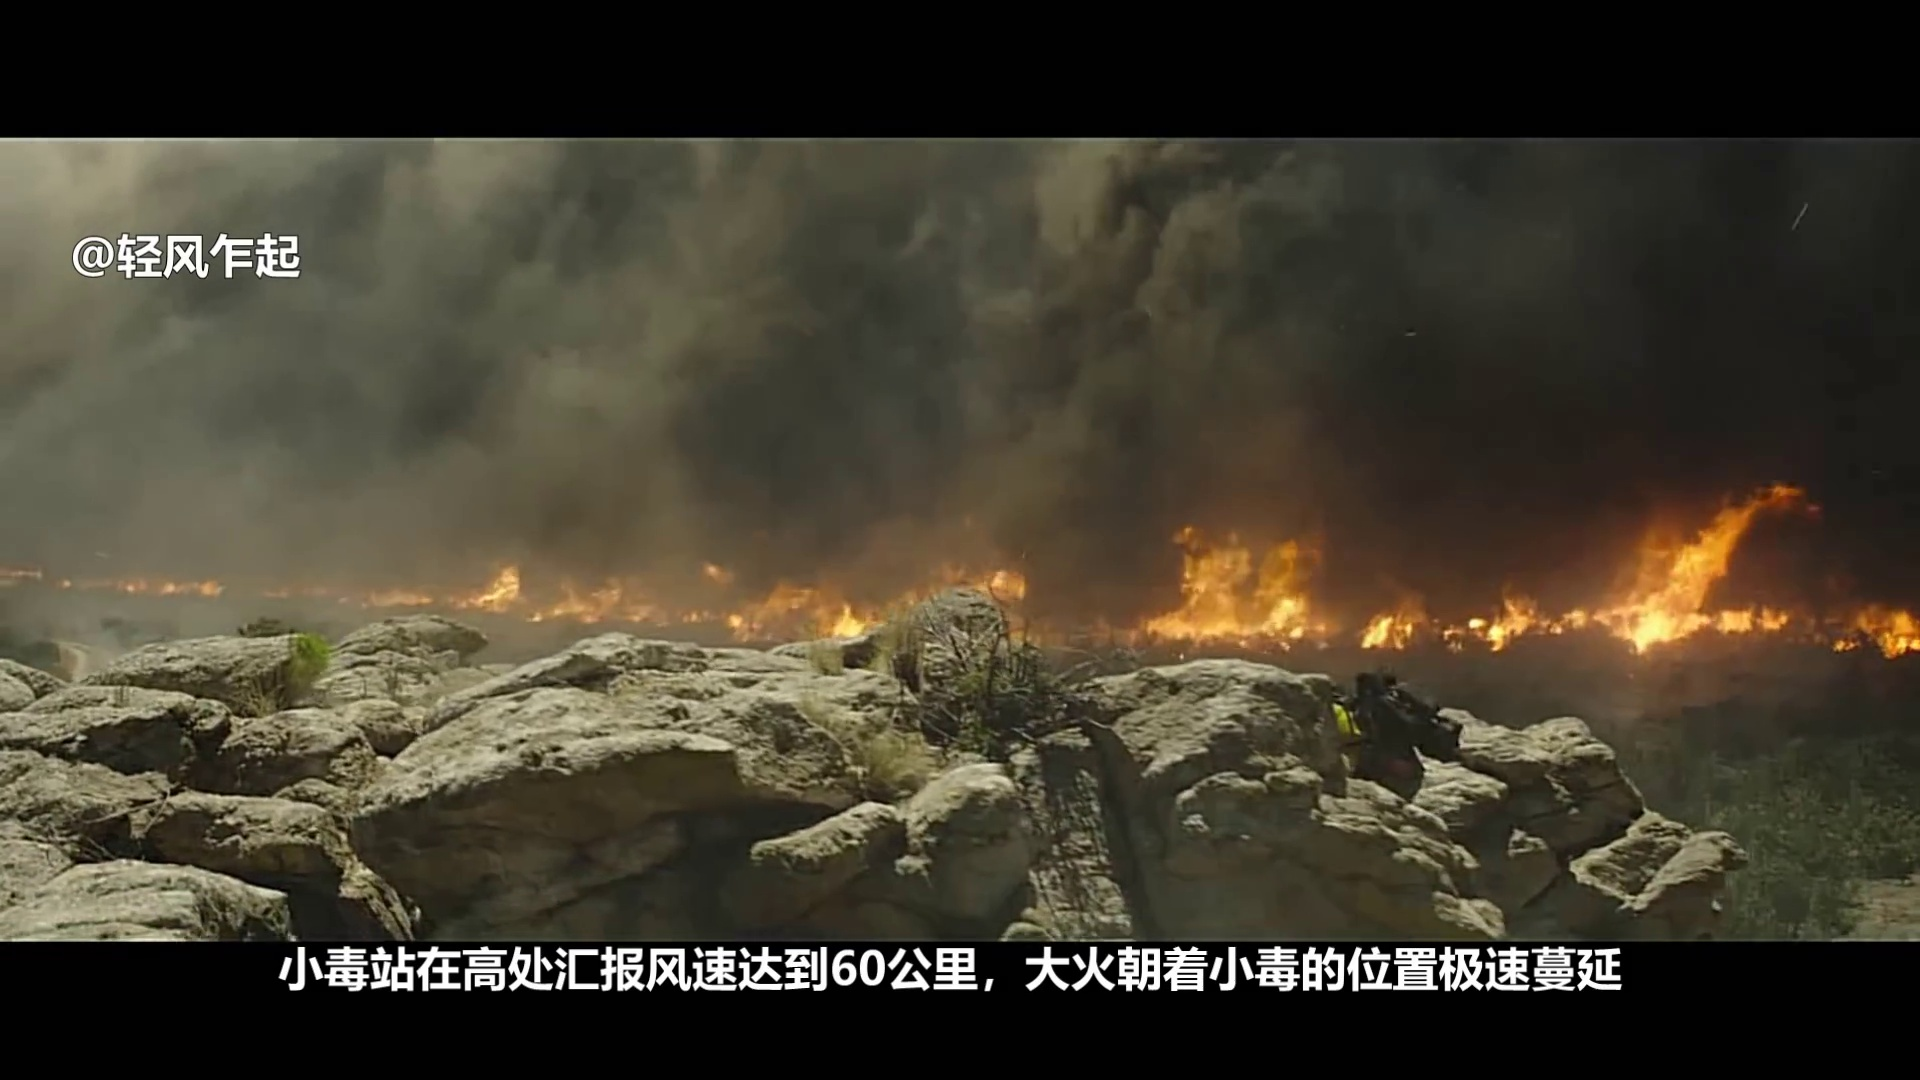fire: (1601, 513, 1758, 651), (1160, 533, 1323, 640), (1473, 595, 1536, 655), (1855, 604, 1920, 651), (477, 566, 521, 615), (1364, 611, 1407, 647), (829, 607, 860, 647)
